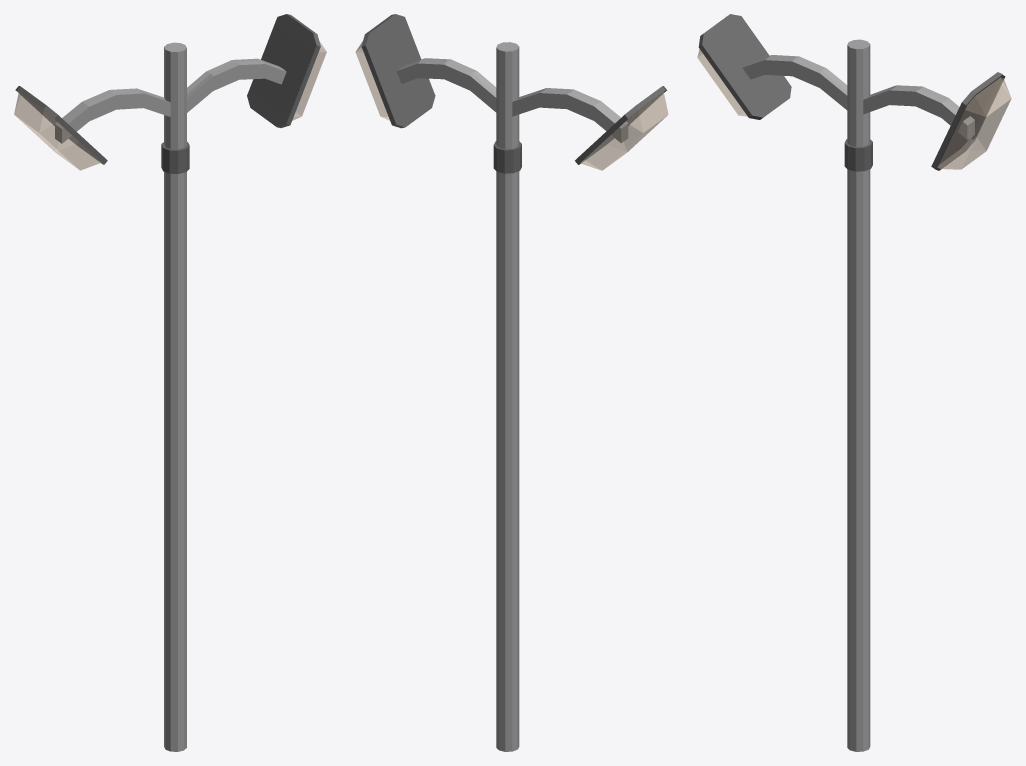
Rendered from Faro carretera 1.fbx.
3 renders of one model, left to right at view 1: azimuth 30°, elevation 25°; view 2: azimuth 150°, elevation 25°; view 3: azimuth 330°, elevation 25°, orthographic.
Parts seen in each view (by area): view 1: Faro_palo, Faro_Luz_2, Faro_Luz_1; view 2: Faro_palo, Faro_Luz_2, Faro_Luz_1; view 3: Faro_palo, Faro_Luz_1, Faro_Luz_2.
Part boxes in pixels (x1,y1,x2,y2): Faro_palo: (55, 42, 286, 751); Faro_Luz_2: (247, 14, 326, 127); Faro_Luz_1: (14, 86, 107, 170); Faro_palo: (396, 42, 628, 751); Faro_Luz_2: (355, 14, 435, 128); Faro_Luz_1: (575, 86, 668, 170); Faro_palo: (742, 39, 974, 751); Faro_Luz_1: (697, 14, 791, 119); Faro_Luz_2: (931, 72, 1011, 170).
Bounding box in the file's own units: 3.45 × 8.03 × 0.8147.
